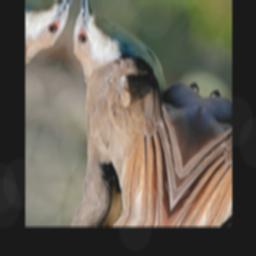Cuckoo: (29, 0, 221, 226)
